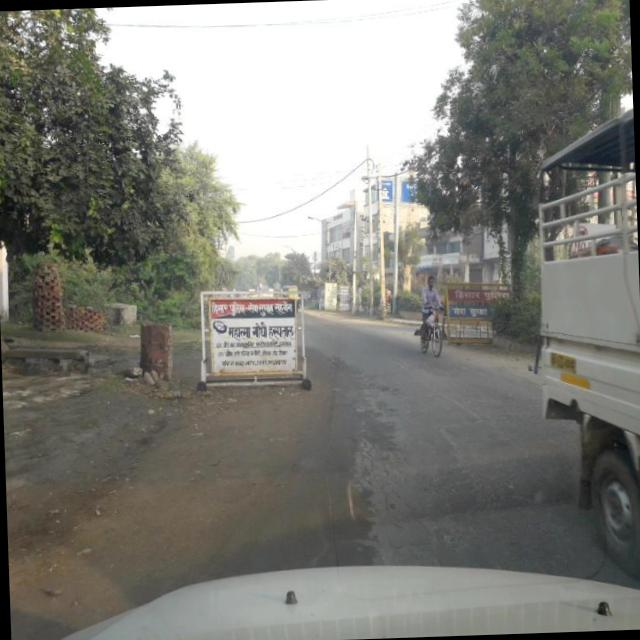crack: (336, 421, 502, 565)
